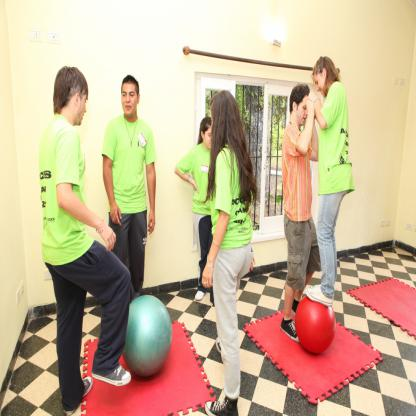Ball: (122, 294, 171, 376), (294, 293, 336, 356)
